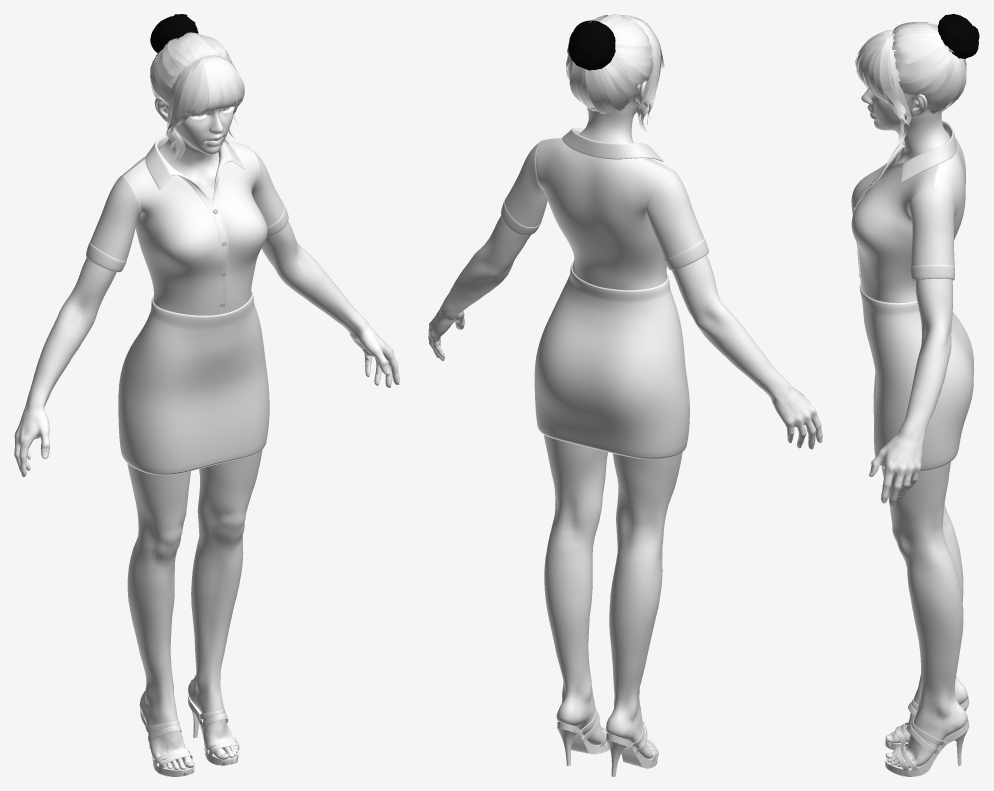
Rendered from girl.gltf.
The picture shows the model from 3 angles, left to right: view 1: azimuth 30°, elevation 25°; view 2: azimuth 150°, elevation 25°; view 3: azimuth 270°, elevation 25°; orthographic projection. The views are drawn at different scales.
Visible parts, largest first — view 1: body, shirt, skirt, hair, shoe; view 2: body, skirt, shirt, hair, shoe; view 3: body, shirt, skirt, hair, shoe.
Boxes of the visible parts, bbox=[...] form: body: bbox=[14, 83, 399, 769]; shirt: bbox=[86, 135, 288, 315]; skirt: bbox=[118, 290, 269, 475]; hair: bbox=[150, 14, 244, 163]; shoe: bbox=[140, 694, 239, 776]; body: bbox=[428, 74, 822, 758]; skirt: bbox=[534, 262, 689, 459]; shirt: bbox=[501, 127, 708, 290]; hair: bbox=[566, 14, 664, 134]; shoe: bbox=[557, 707, 658, 776]; body: bbox=[861, 85, 967, 768]; shirt: bbox=[851, 120, 965, 302]; skirt: bbox=[859, 282, 973, 471]; hair: bbox=[855, 14, 979, 147]; shoe: bbox=[885, 696, 969, 776].
Size of the model in its own units: 0.9613 by 1.78 by 0.2783.
Materials: 17 (15 with a texture image).
